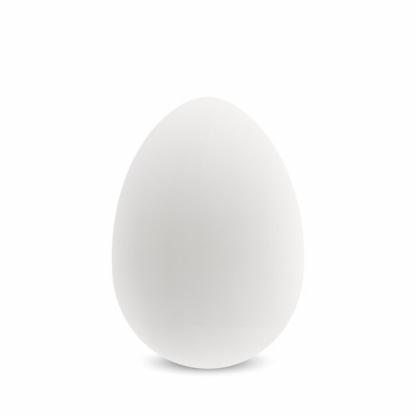egg: (104, 89, 315, 378)
